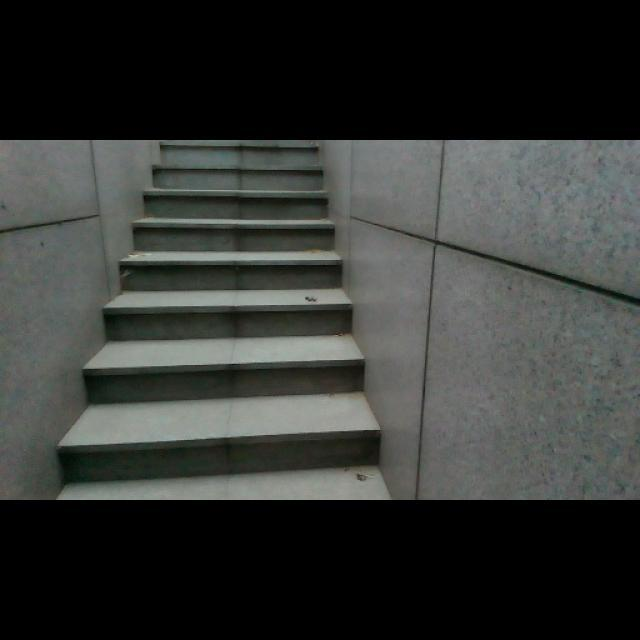stair: (101, 142, 381, 494)
